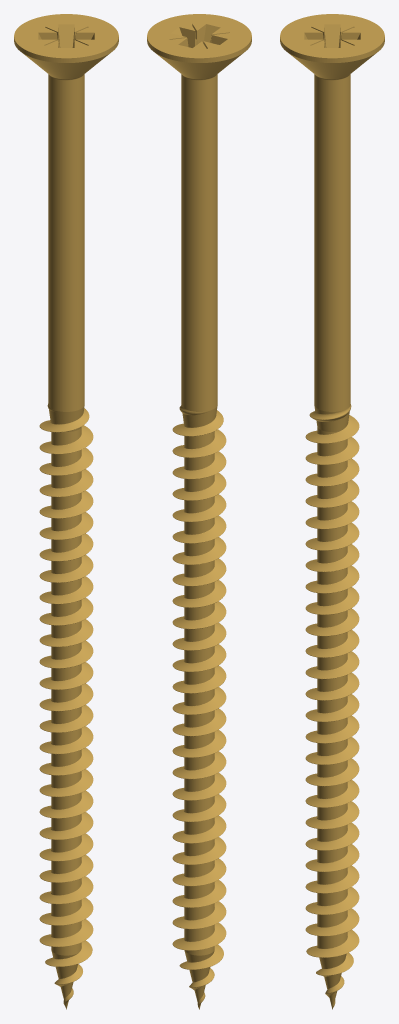
Rendered from model_full.glb.
3 renders of one model, left to right at view 1: azimuth 90°, elevation 25°; view 2: azimuth 150°, elevation 25°; view 3: azimuth 270°, elevation 25°, orthographic.
Parts seen in each view (by area): view 1: geometry_0; view 2: geometry_0; view 3: geometry_0.
Part boxes in pixels (<box>): geometry_0: <box>14,14,118,1009</box>; geometry_0: <box>147,14,251,1009</box>; geometry_0: <box>280,14,384,1009</box>.
Size of the model in its own units: 0.00975 by 0.1 by 0.00975.
